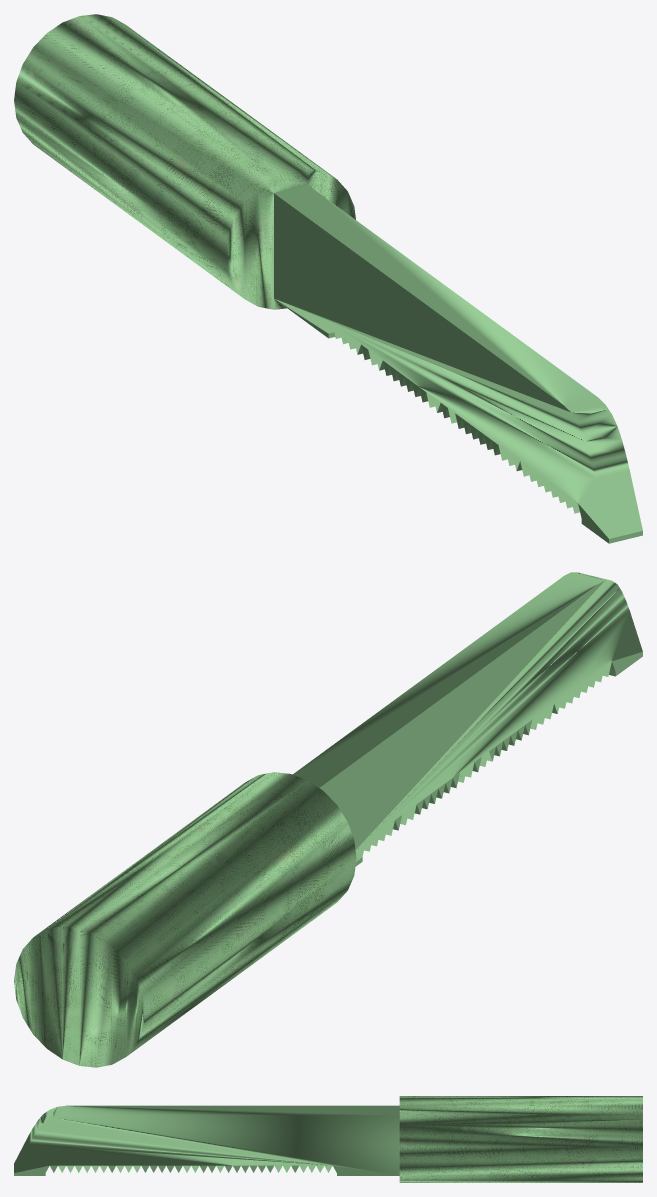
File: model_align.obj
The picture shows the model from 3 angles, top to bottom: view 1: azimuth 30°, elevation 25°; view 2: azimuth 150°, elevation 25°; view 3: azimuth 270°, elevation 25°; orthographic projection. The views are drawn at different scales.
Bounding box in the file's own units: 0.0287 × 0.0287 × 0.2073.
2 materials, 2 textured.
